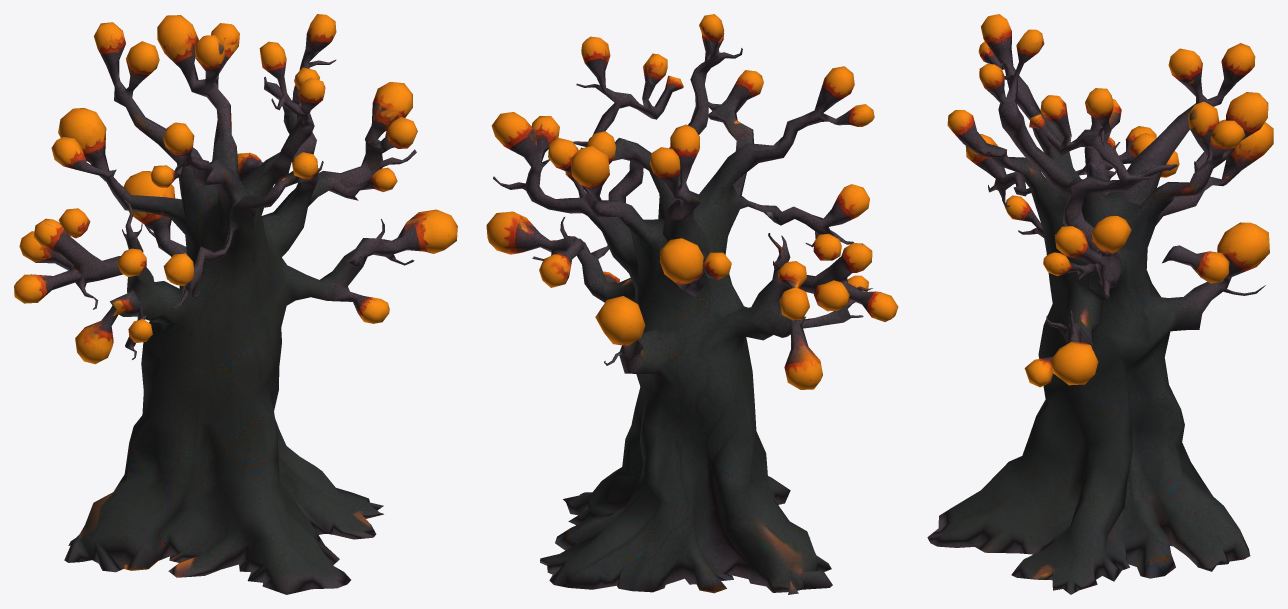
Rendered from prp_alien_tree_bulb.glb.
3 renders of one model, left to right at view 1: azimuth 30°, elevation 25°; view 2: azimuth 150°, elevation 25°; view 3: azimuth 270°, elevation 25°, orthographic.
Bounding box in the file's own units: 0.8315 × 0.9507 × 0.5947.
1 material, 1 textured.
